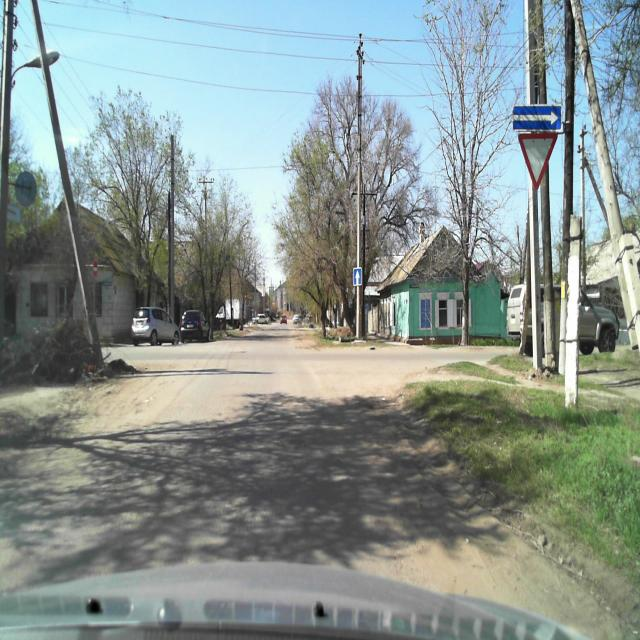road sign: (518, 130, 559, 189), (513, 103, 562, 130), (352, 267, 363, 286)
